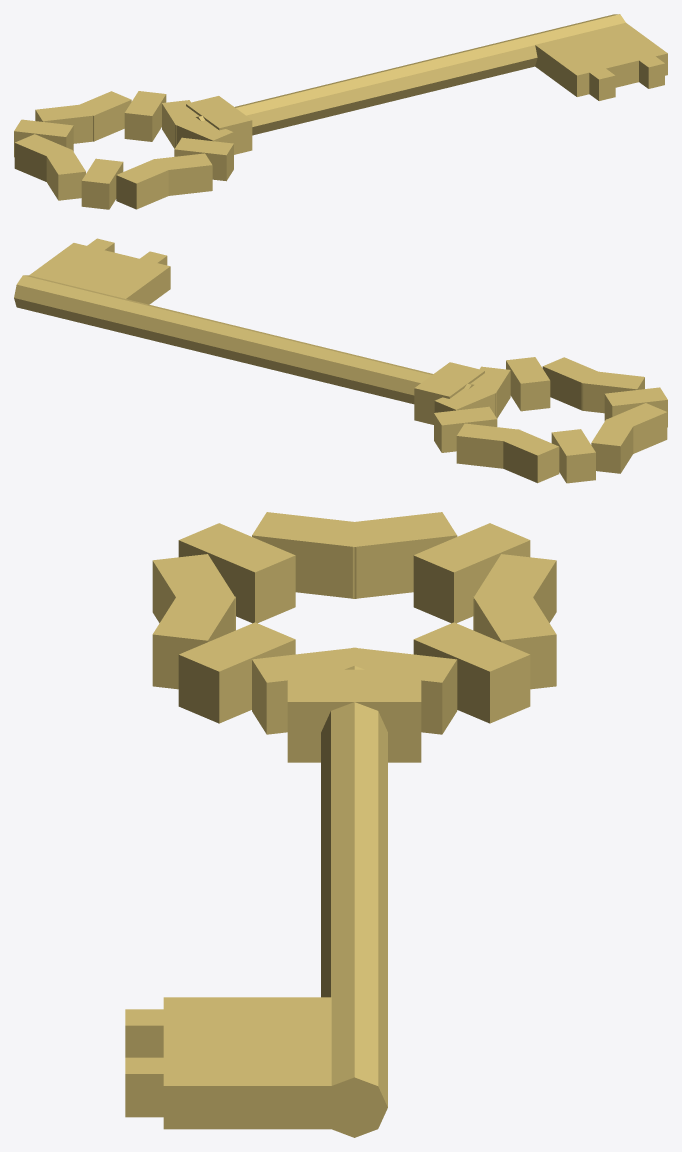
File: schluessel.glb
3 renders of one model, top to bottom at view 1: azimuth 30°, elevation 25°; view 2: azimuth 150°, elevation 25°; view 3: azimuth 270°, elevation 25°, orthographic. The views are drawn at different scales.
Visible parts, largest first — view 1: schluessel; view 2: schluessel; view 3: schluessel.
Part boxes in pixels (<box>): schluessel: <box>14,14,667,209</box>; schluessel: <box>14,238,667,483</box>; schluessel: <box>125,512,556,1137</box>.
Bounding box in the file's own units: 0.1412 × 0.007 × 0.0452.
